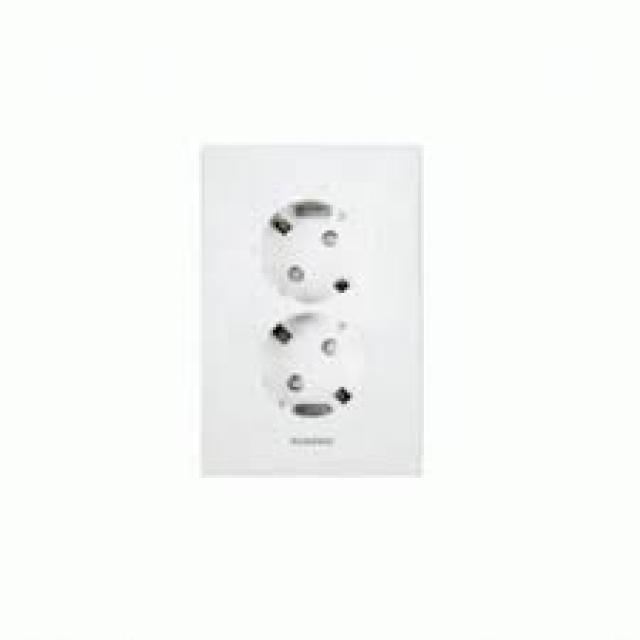typeb: (178, 127, 487, 536)
